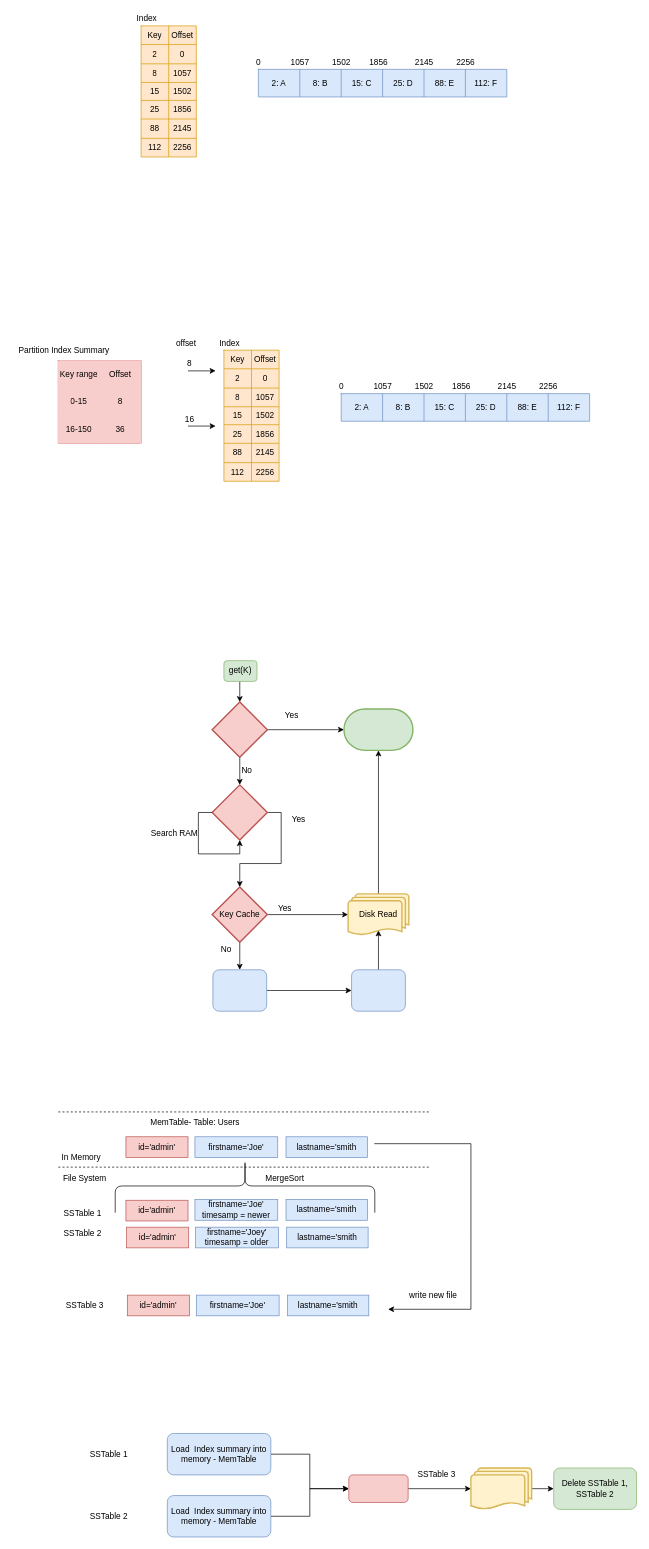
Some shapes in this 649 by 1549 pixel diagram are drawn without their labels. Each missing label, with the centre of its shape:
"BloomFilter?" belongs at point (239, 812).
"Disk" belongs at point (501, 1488).
"Index Summary" belongs at point (378, 990).
"MemTable?" belongs at point (239, 729).
"Merge Sort" belongs at point (378, 1488).
"Primary Index Summary" belongs at point (239, 990).
"return V" belongs at point (378, 729).
